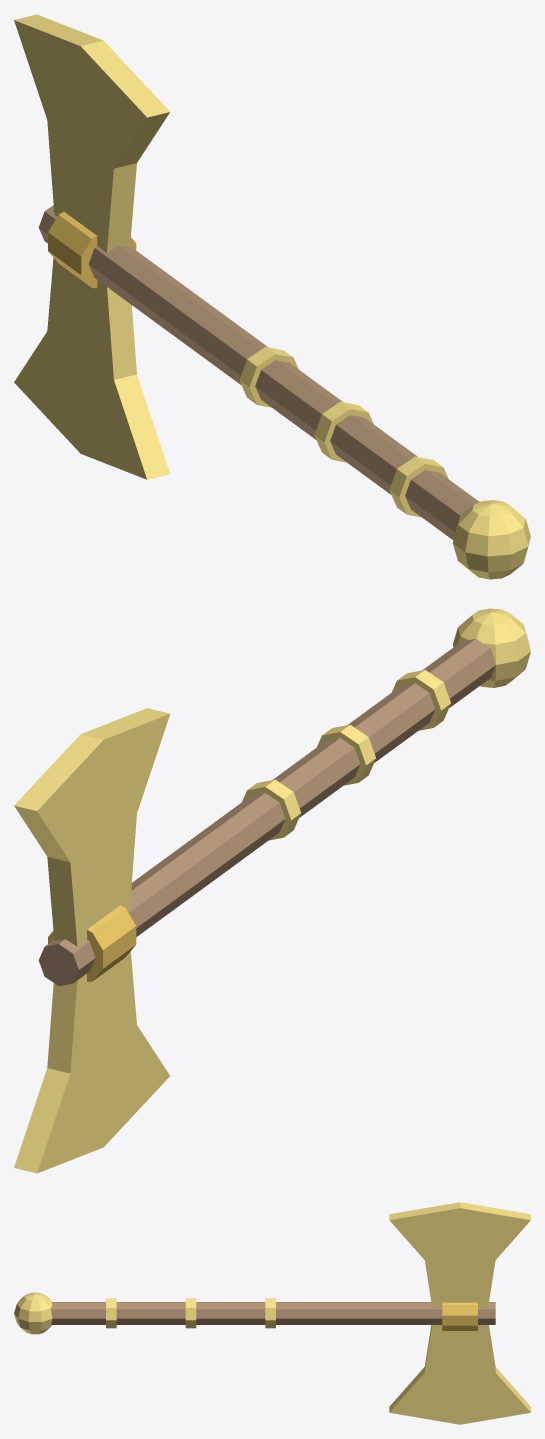
The model's file is gold_axe_held.gltf.
3 views of the same model, one above another, from view 1: azimuth 30°, elevation 25°; view 2: azimuth 150°, elevation 25°; view 3: azimuth 270°, elevation 25° (orthographic). The views are drawn at different scales.
Parts seen in each view (by area): view 1: furnace_gold_axe_held; view 2: furnace_gold_axe_held; view 3: furnace_gold_axe_held.
Boxes of the visible parts, x1,y1,x2,y2 form: furnace_gold_axe_held: (14, 14, 530, 579); furnace_gold_axe_held: (14, 608, 530, 1173); furnace_gold_axe_held: (14, 1202, 530, 1424).
Bounding box in the file's own units: 0.0457 × 0.27 × 0.584.
